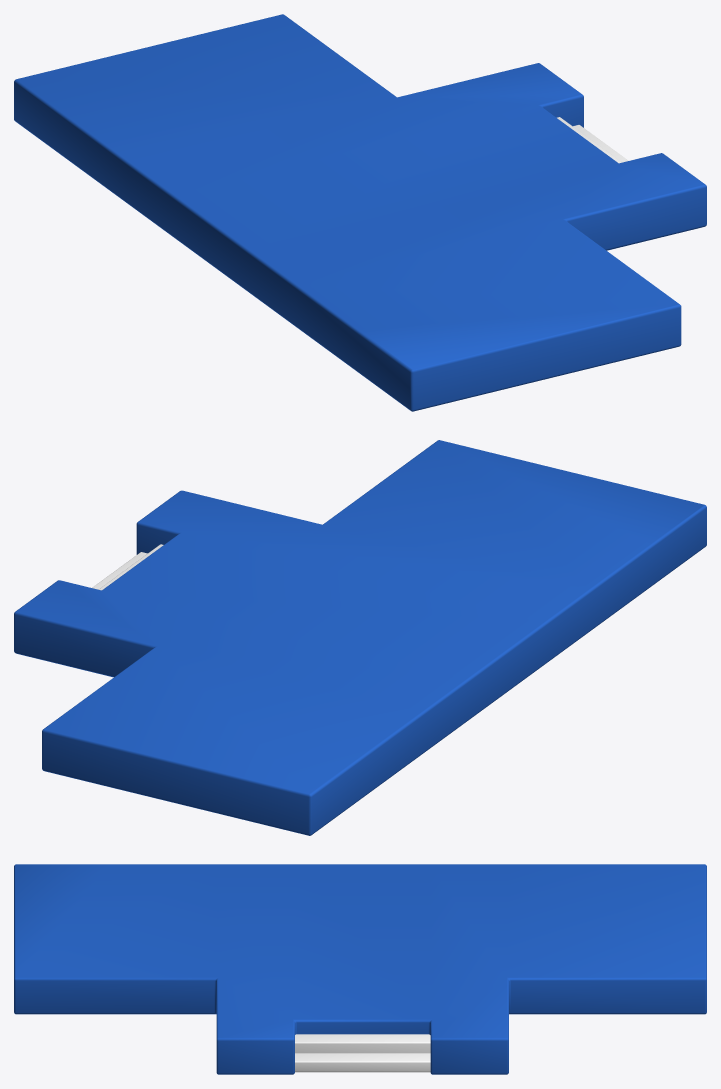
File: PIP_nursing-home-3d-1.glb
3 renders of one model, top to bottom at view 1: azimuth 30°, elevation 25°; view 2: azimuth 150°, elevation 25°; view 3: azimuth 270°, elevation 25°, orthographic. The views are drawn at different scales.
Parts seen in each view (by area): view 1: Cube.155; view 2: Cube.155; view 3: Cube.155, Cube.157, Cube.156.
Boxes of the visible parts, x1,y1,x2,y2 form: Cube.155: [14, 14, 706, 411]; Cube.155: [14, 440, 706, 835]; Cube.155: [14, 864, 706, 1074]; Cube.157: [295, 1053, 430, 1072]; Cube.156: [295, 1034, 430, 1053].
Bounding box in the file's own units: 0.8038 × 0.0784 × 1.34.
